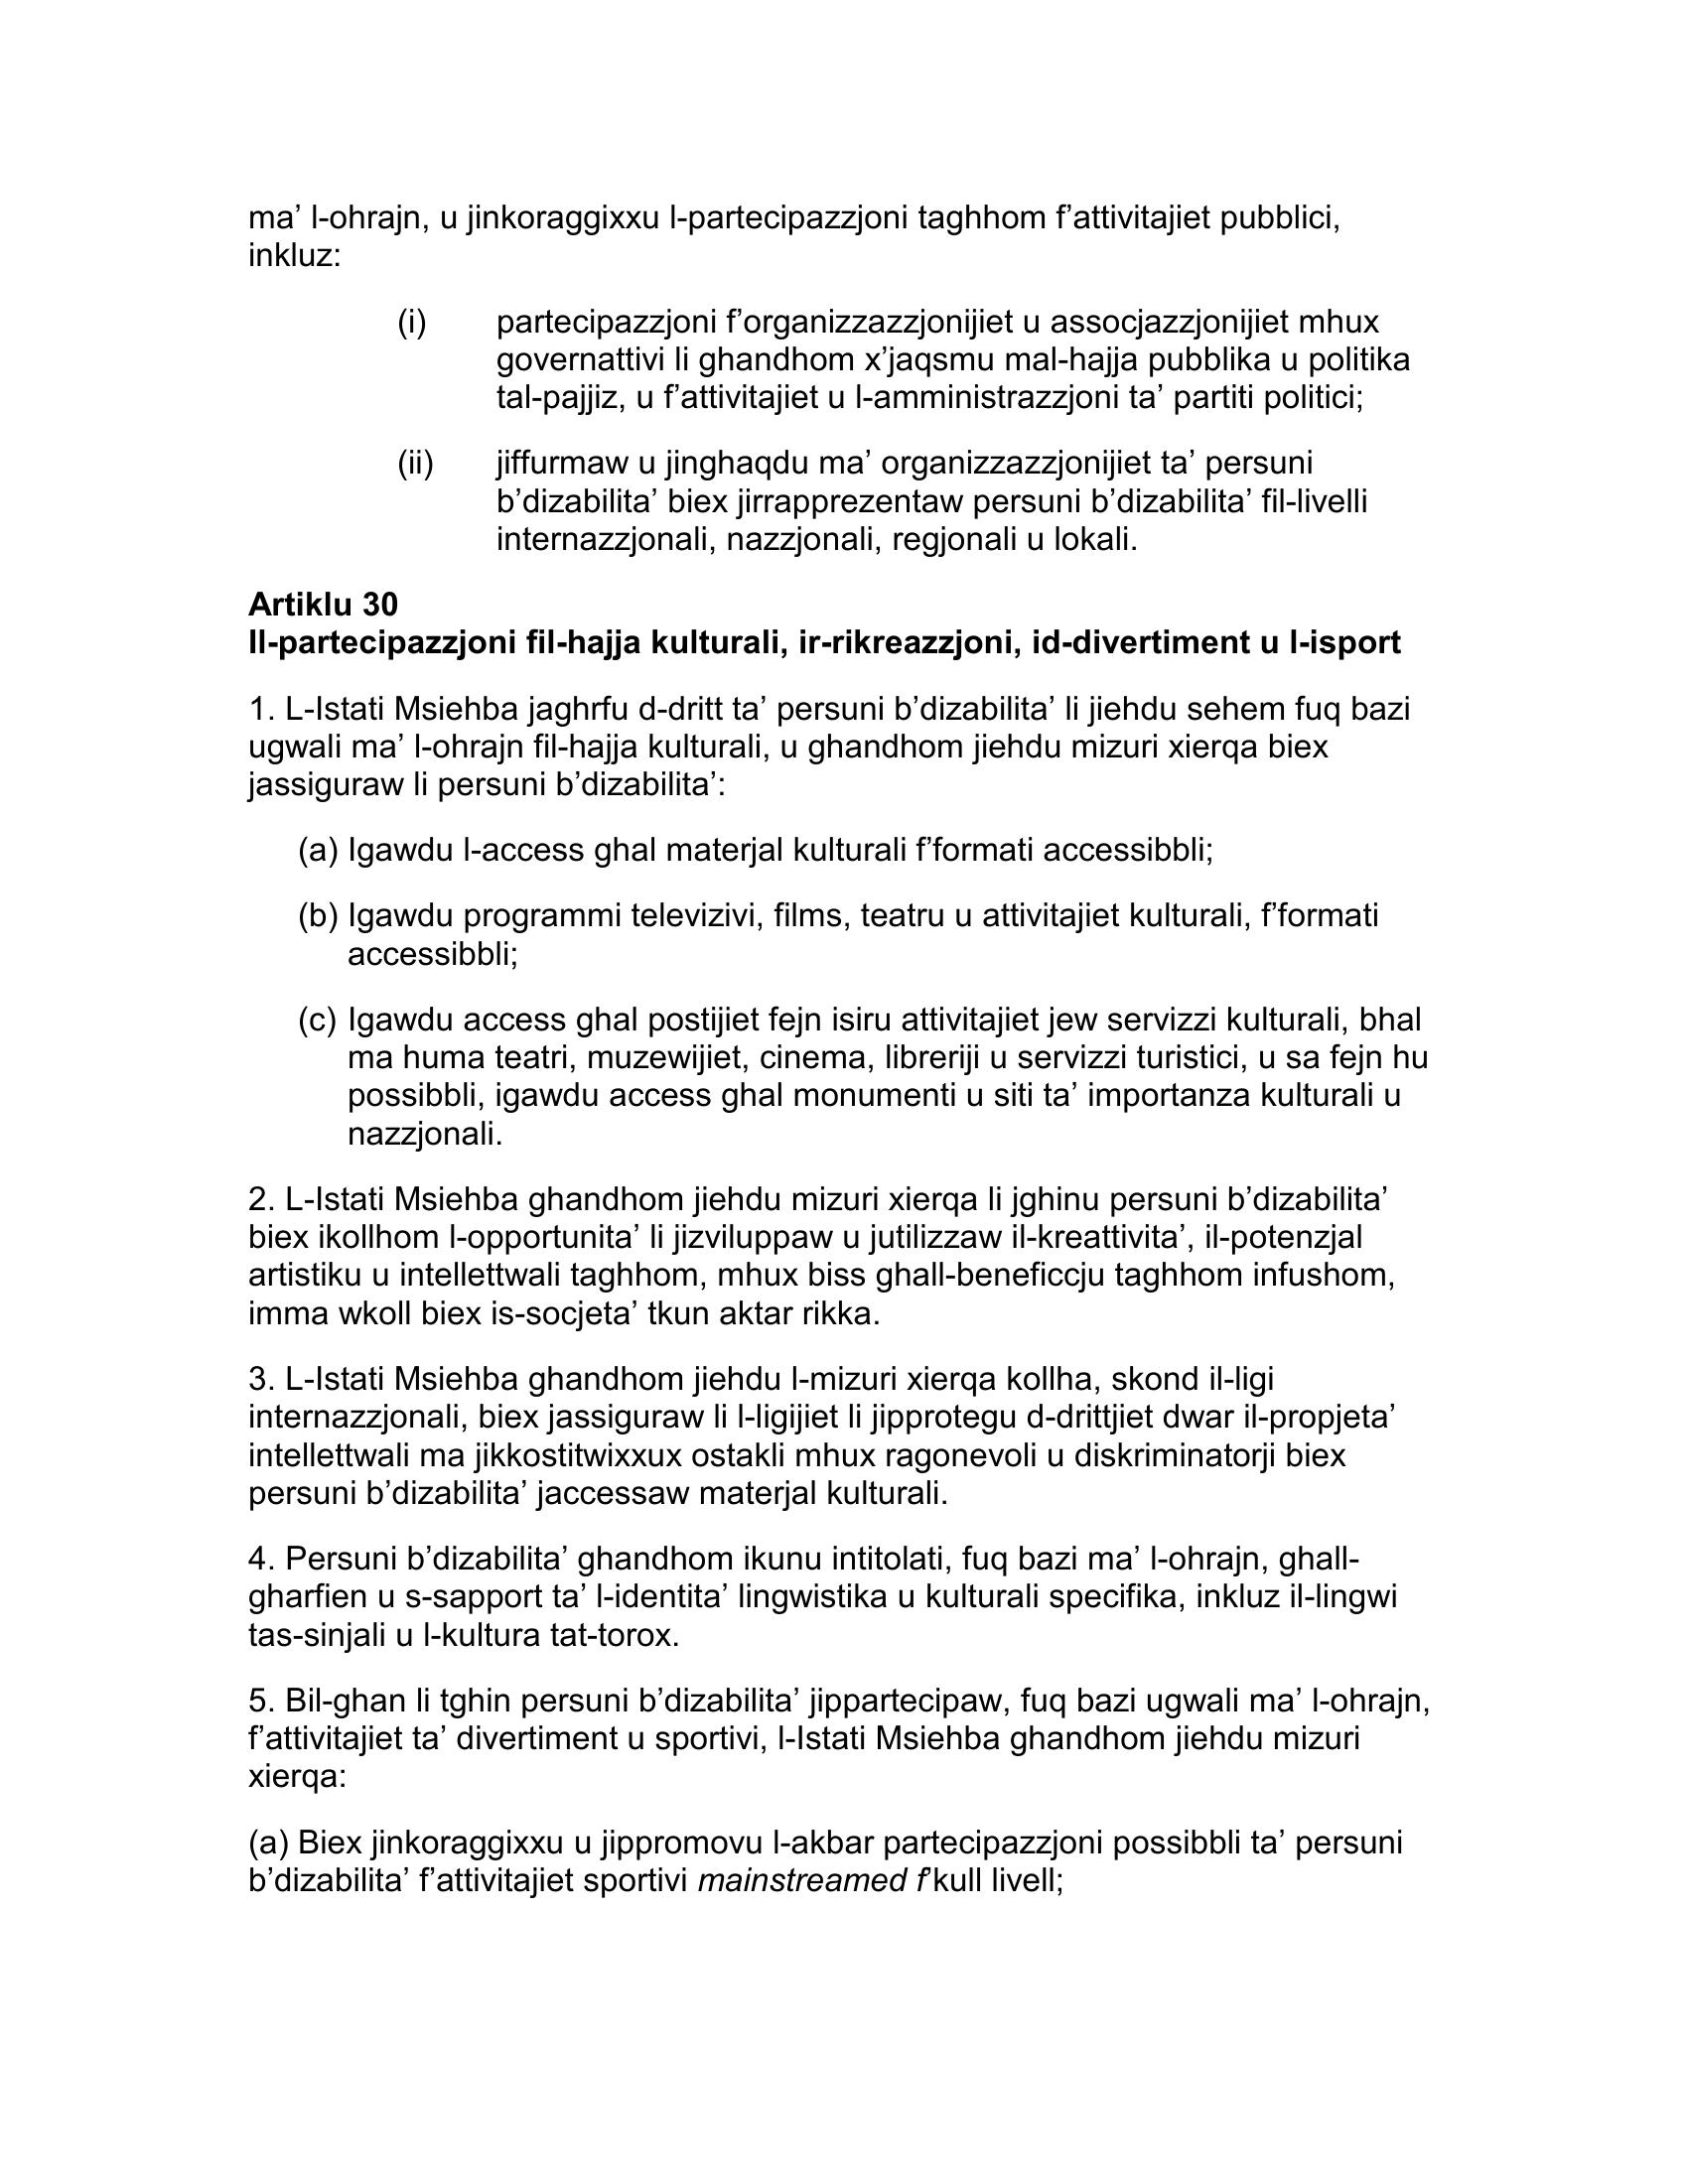text: (225, 193, 1459, 1929)
